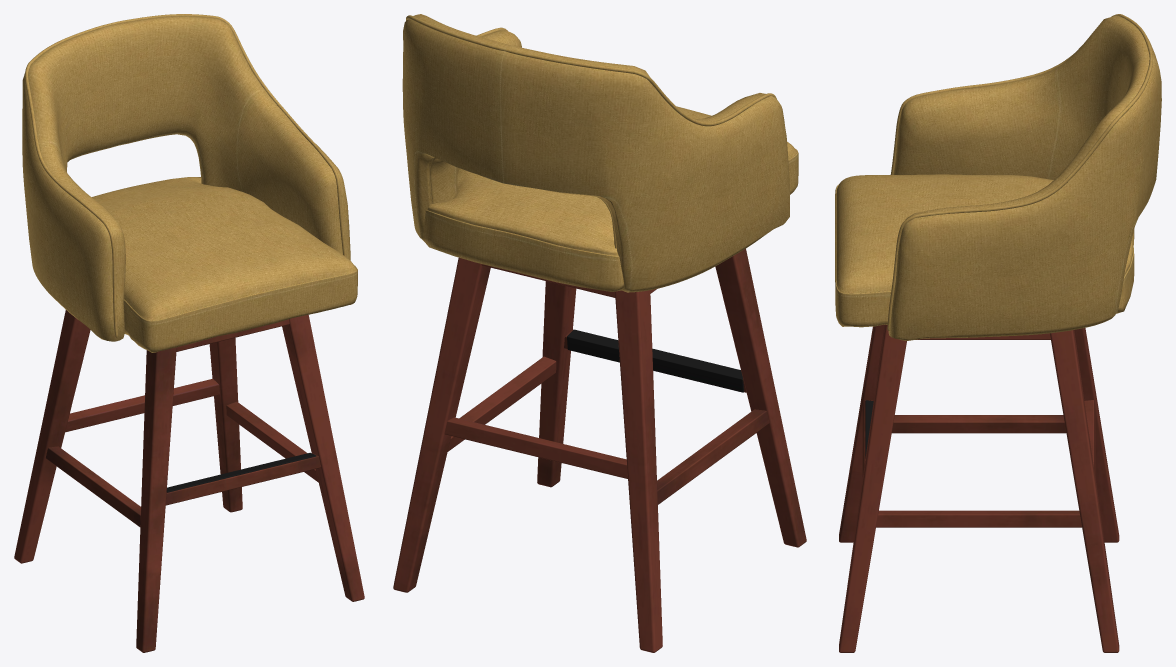
File: malida_open_back_swivel_bar_stool.glb
3 renders of one model, left to right at view 1: azimuth 30°, elevation 25°; view 2: azimuth 150°, elevation 25°; view 3: azimuth 270°, elevation 25°, orthographic. The views are drawn at different scales.
Parts seen in each view (by area): view 1: RootNode; view 2: RootNode; view 3: RootNode.
Part boxes in pixels (x1,y1,x2,y2): RootNode: (14, 14, 364, 652); RootNode: (393, 14, 806, 652); RootNode: (835, 14, 1161, 652).
Bounding box in the file's own units: 0.548 × 1.01 × 0.5576.
Materials: 1 (1 with a texture image).
